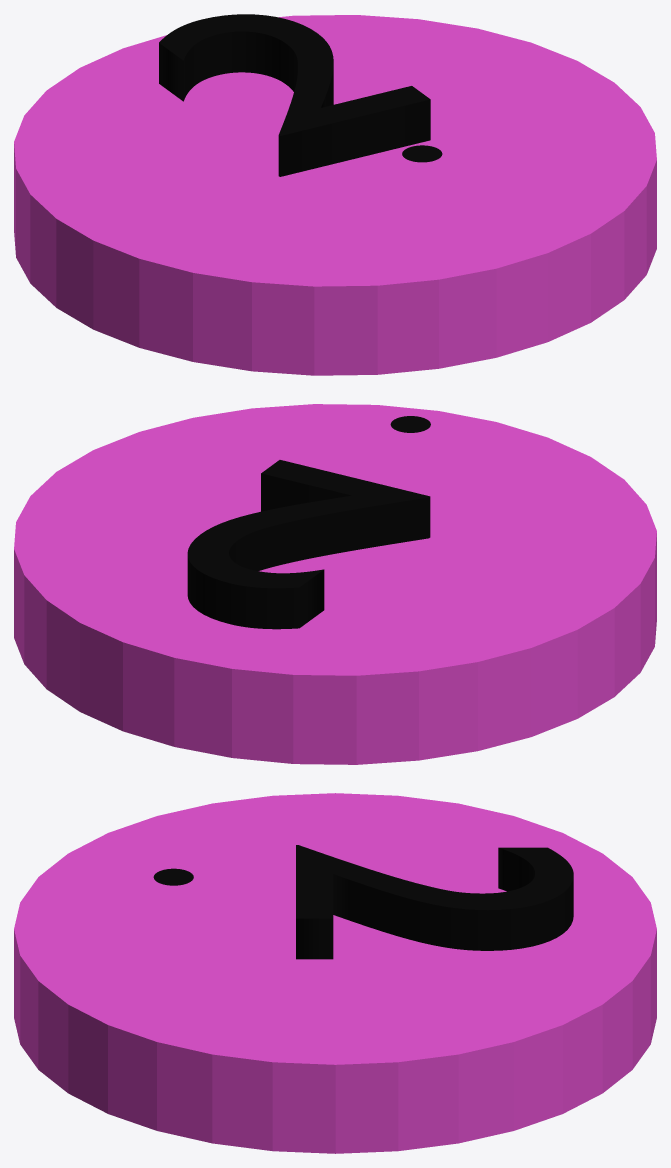
The model's file is two.fbx.
The picture shows the model from 3 angles, top to bottom: view 1: azimuth 30°, elevation 25°; view 2: azimuth 150°, elevation 25°; view 3: azimuth 270°, elevation 25°; orthographic projection.
Visible parts, largest first — view 1: Circle, Text.001, Circle.008; view 2: Circle, Text.001, Circle.008; view 3: Circle, Text.001, Circle.008.
Boxes of the visible parts, x1,y1,x2,y2 form: Circle: (14,15,656,375); Text.001: (159,14,430,176); Circle.008: (402,145,442,162); Circle: (14,404,656,764); Text.001: (187,460,430,629); Circle.008: (390,416,430,432); Circle: (14,793,656,1153); Text.001: (296,845,573,959); Circle.008: (153,868,193,885).
Size of the model in its own units: 200 by 49.27 by 200.
